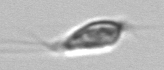plankton: (20, 15, 164, 57)
